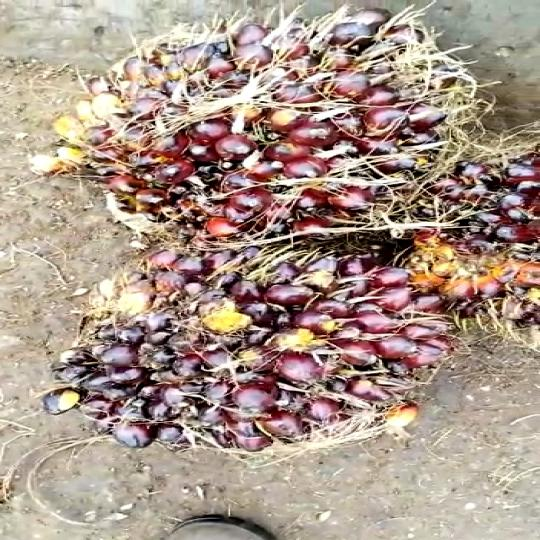kurang masak: (72, 0, 510, 249), (62, 240, 486, 466)
